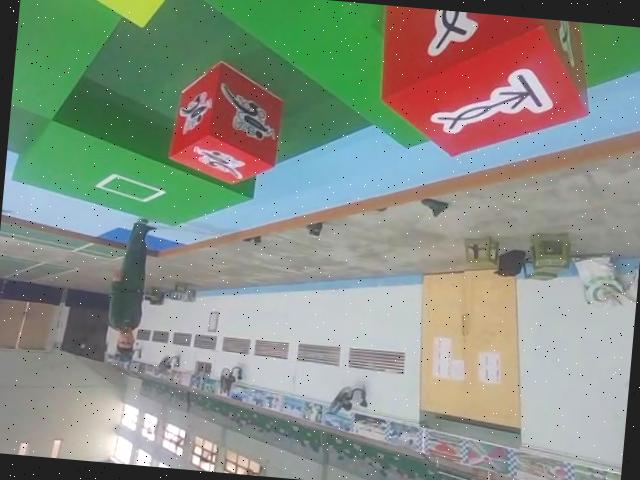R1: (162, 55, 291, 192)
R2 Real: (365, 4, 598, 172)
